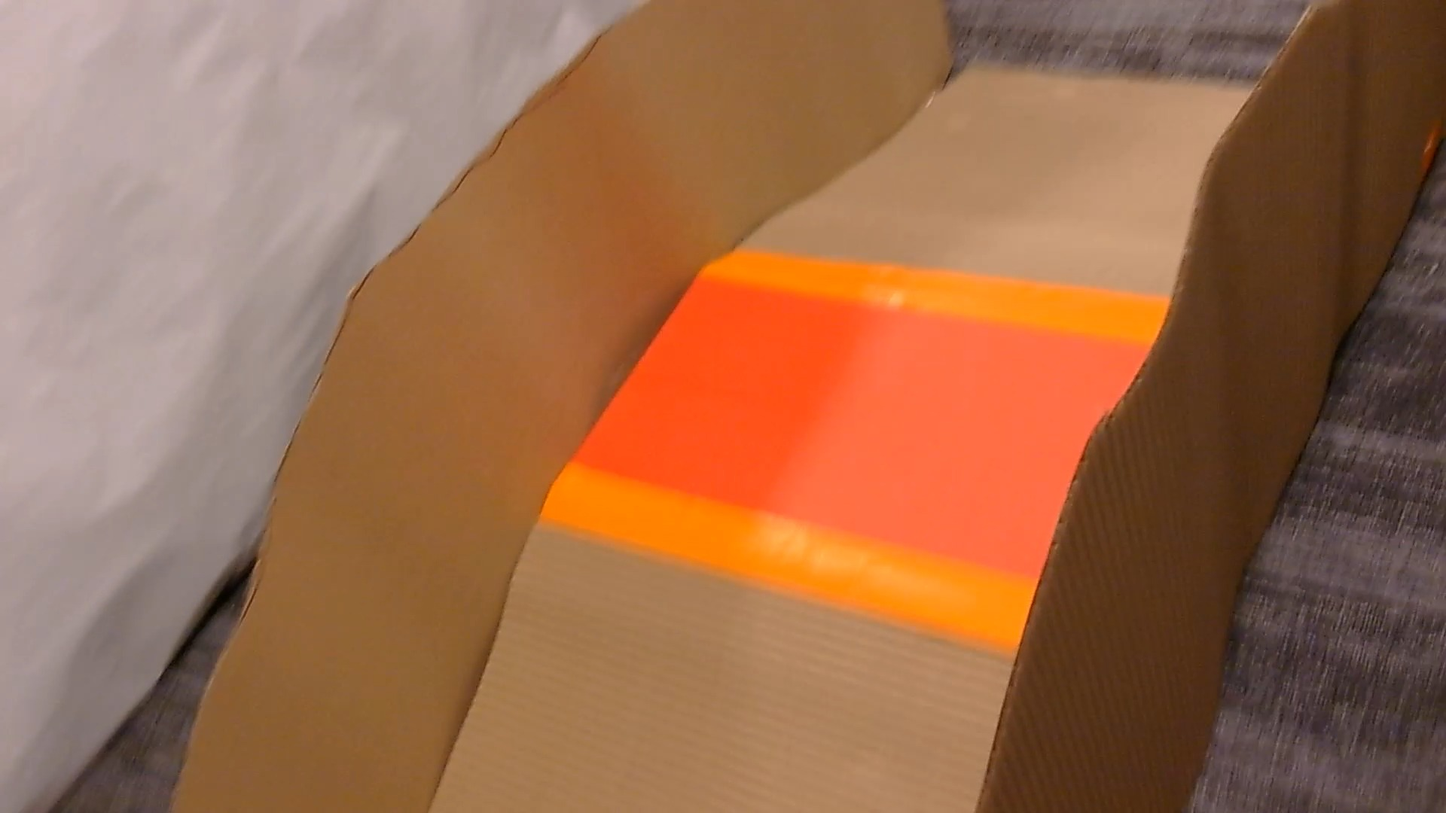Ramp: (173, 0, 1445, 812)
